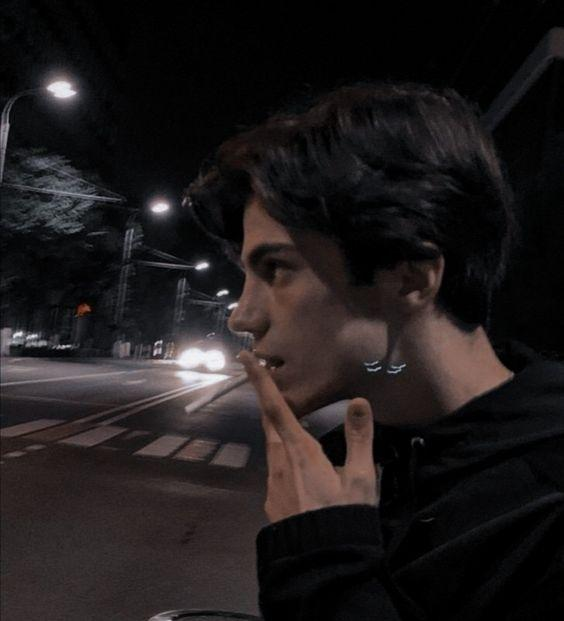cigarette: (184, 358, 274, 415)
